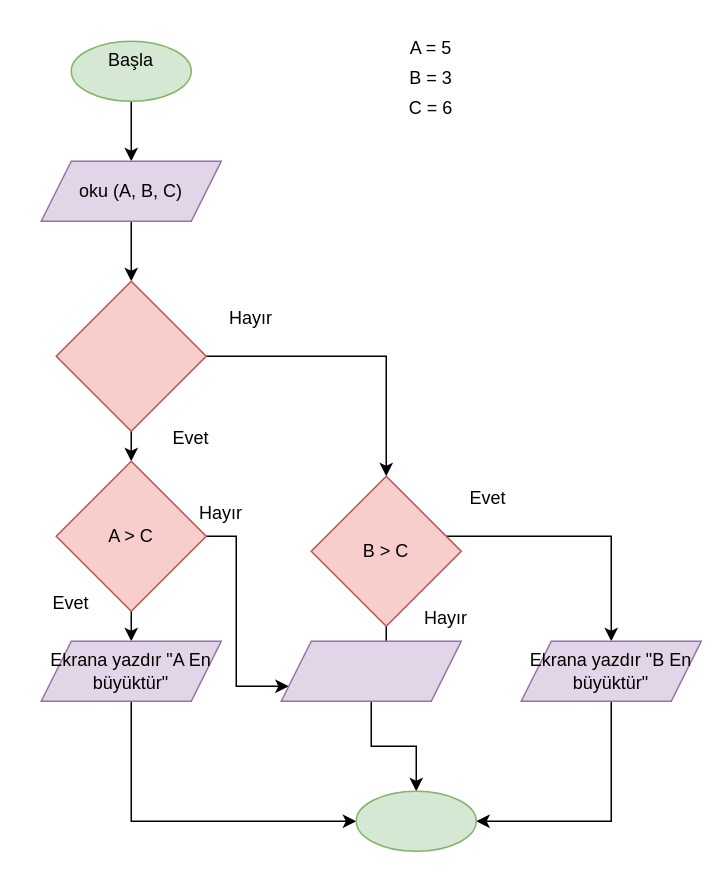
This 728x878 diagram has some shape labels left out. Each missing label, with the centre of its shape:
A > B: point (130, 355)
DUR: point (415, 820)
Ekrana yazdır "C En büyüktür": point (370, 670)
